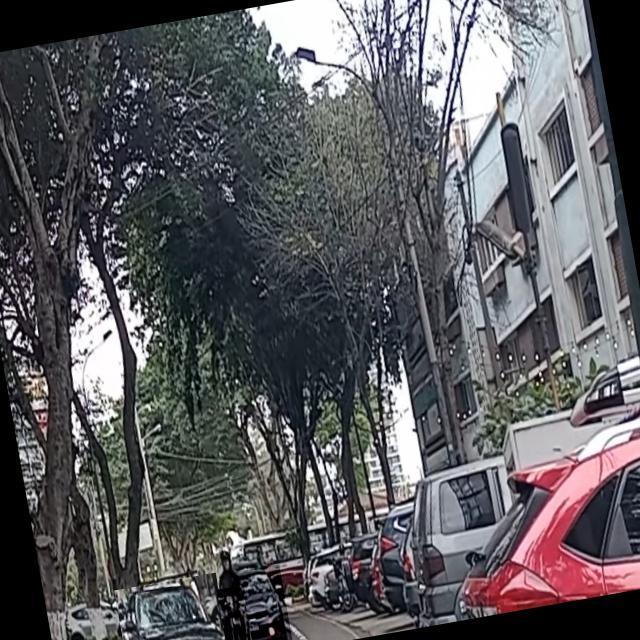car: (114, 572, 231, 640), (230, 563, 293, 640)
motorcycle: (216, 585, 254, 640)
